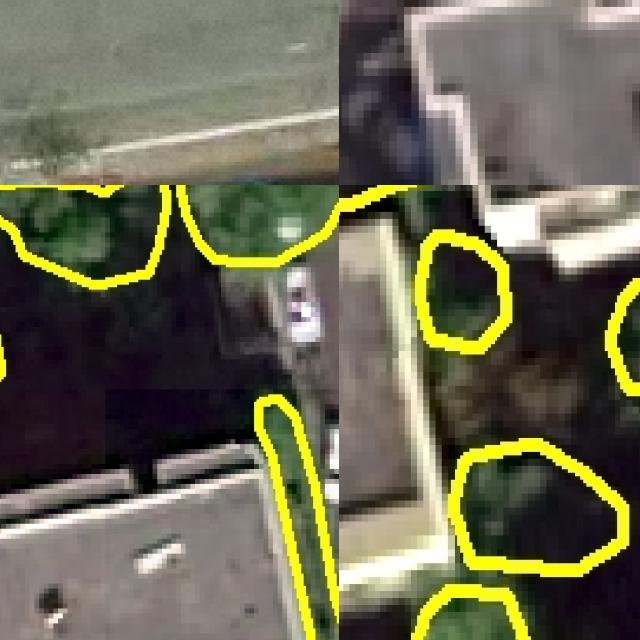trees: (449, 442, 624, 571), (257, 398, 340, 640), (1, 186, 168, 286), (180, 186, 340, 263), (418, 234, 507, 348), (412, 589, 526, 640), (609, 282, 640, 394)
